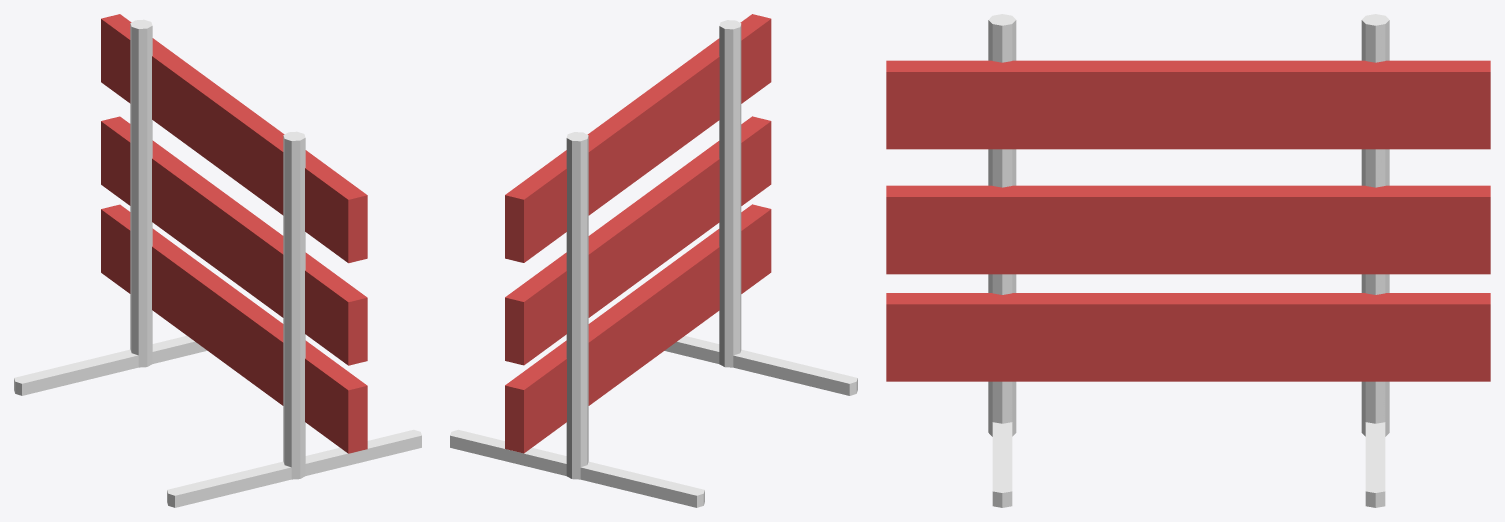
File: Barrier 1.3.fbx
The picture shows the model from 3 angles, left to right: view 1: azimuth 30°, elevation 25°; view 2: azimuth 150°, elevation 25°; view 3: azimuth 270°, elevation 25°; orthographic projection. The views are drawn at different scales.
Parts seen in each view (by area): view 1: Barrier_3.001; view 2: Barrier_3.001; view 3: Barrier_3.001.
Part boxes in pixels (x1=…): Barrier_3.001: x1=14, y1=14, x2=421, y2=507; Barrier_3.001: x1=450, y1=14, x2=857, y2=507; Barrier_3.001: x1=886, y1=14, x2=1490, y2=507.
Bounding box in the file's own units: 130 × 167 × 221.
